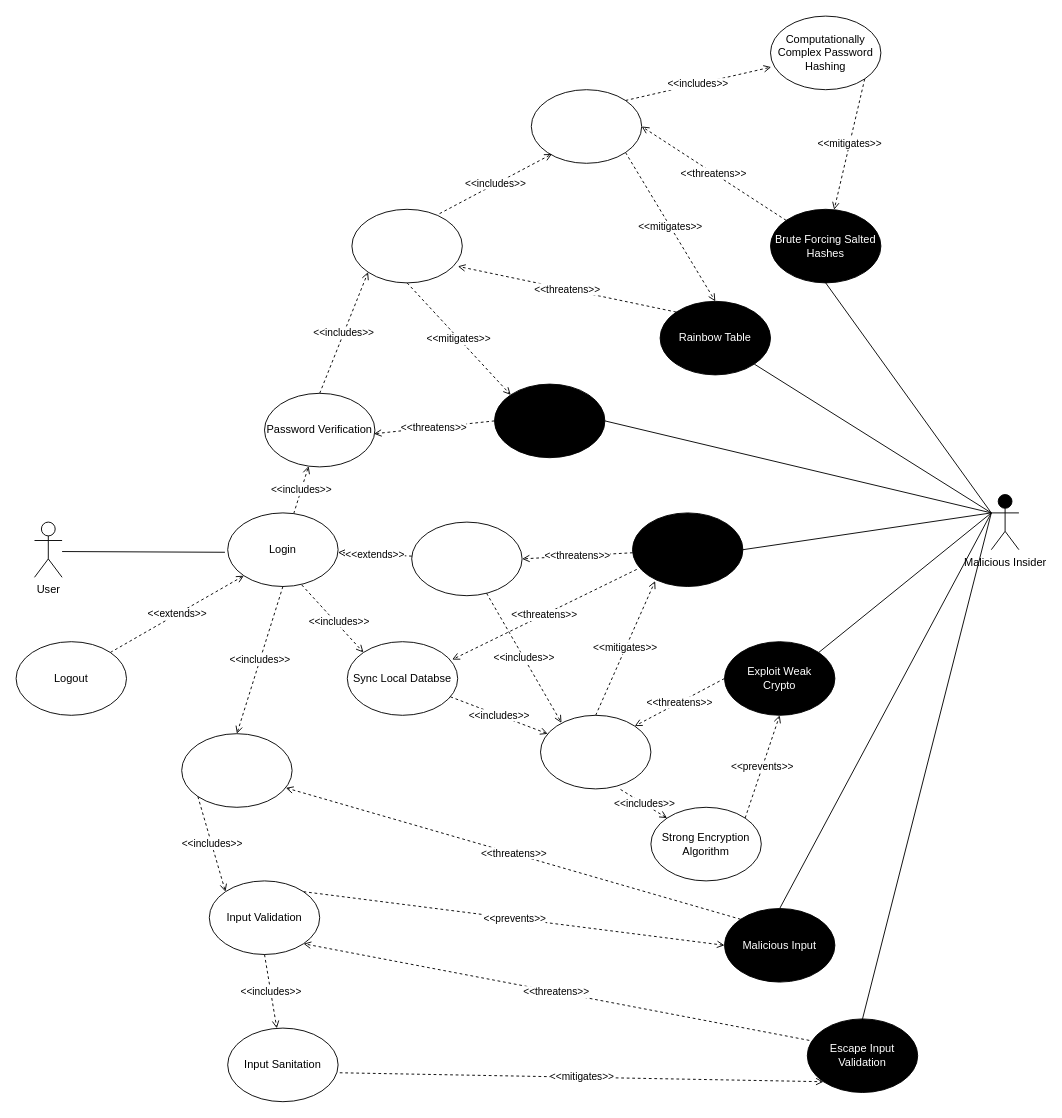
The diagram is 1062 pixels wide and 1118 high, and some of its shapes have lost their labels. Here are the shapes that lost their labels. From the top down, the centre of each, then its label:
[586,126]: Salting Passwords
[406,245]: Password Hashing
[549,420]: Database Theft
[466,558]: Send Password Hint
[687,549]: Network Eavesdrop
[236,770]: Receive User Input
[595,751]: Encrypt Communications
